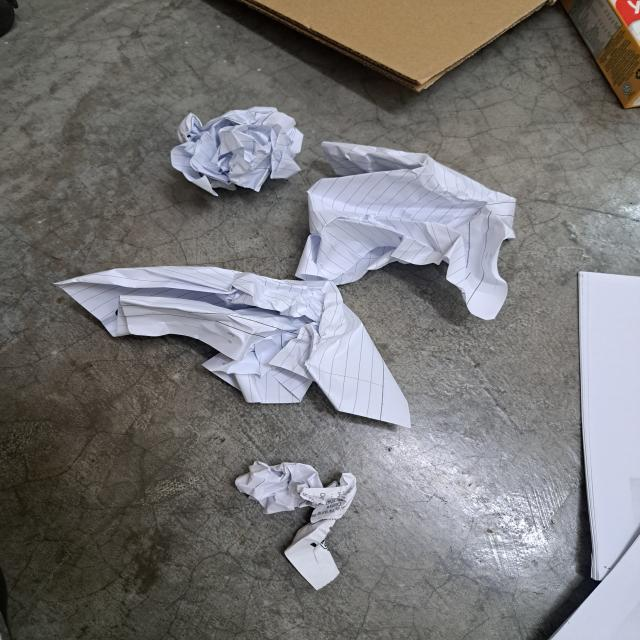cardboard: (233, 0, 553, 93)
drink carton: (556, 0, 640, 109)
paper: (52, 264, 411, 430), (293, 140, 520, 321), (554, 270, 640, 640), (235, 460, 359, 591), (172, 107, 304, 196)
